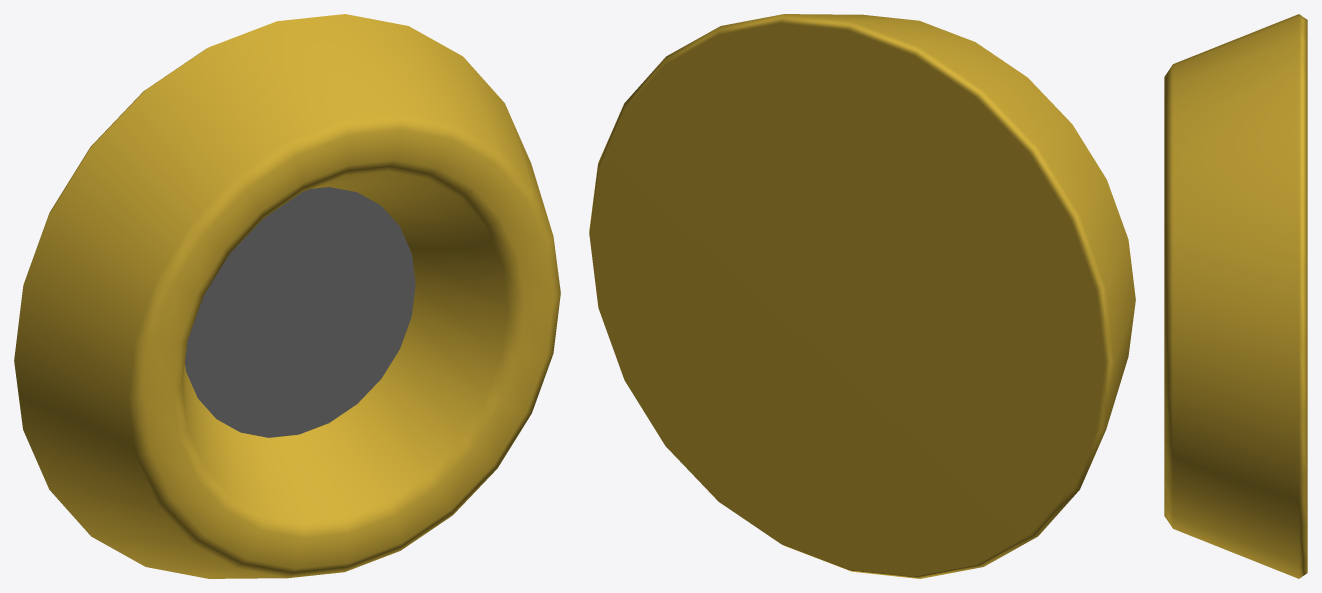
Rendered from Engine_Front.fbx.
The picture shows the model from 3 angles, left to right: view 1: azimuth 30°, elevation 25°; view 2: azimuth 150°, elevation 25°; view 3: azimuth 270°, elevation 25°; orthographic projection. The views are drawn at different scales.
Parts seen in each view (by area): view 1: Engine_Front; view 2: Engine_Front; view 3: Engine_Front.
Part boxes in pixels (<box>): Engine_Front: <box>14,14,560,578</box>; Engine_Front: <box>589,14,1135,578</box>; Engine_Front: <box>1164,14,1307,578</box>.
Bounding box in the file's own units: 198 × 198 × 50.
